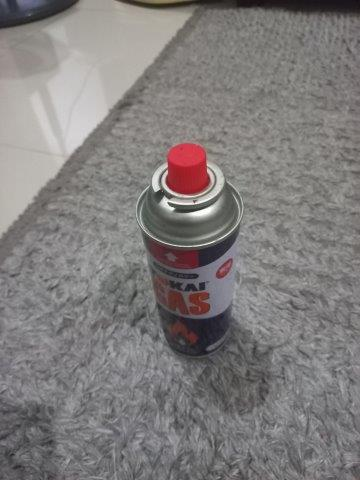kaleng: (135, 145, 244, 358)
